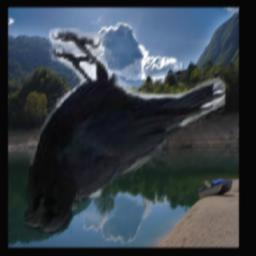Crow: (25, 29, 226, 234)
